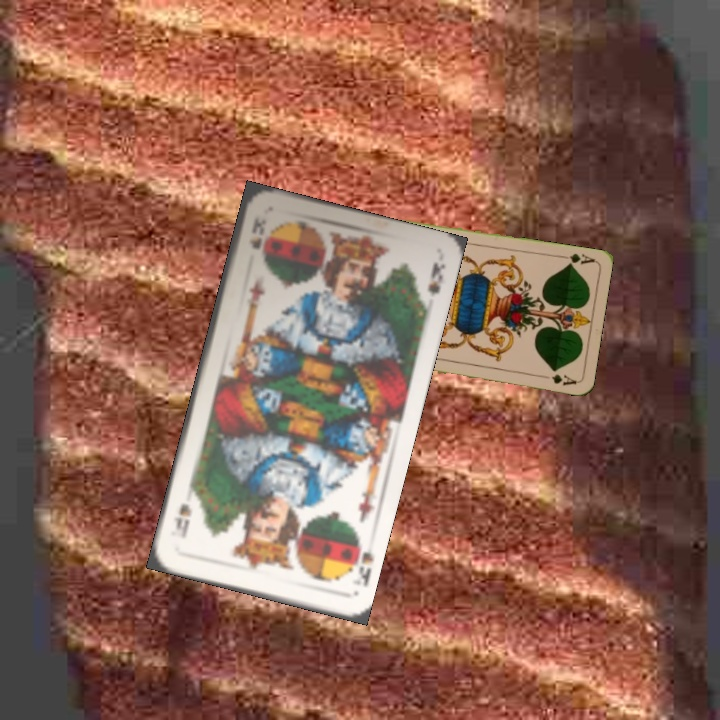GA: (556, 249, 597, 268)
SK: (354, 547, 376, 589), (246, 213, 265, 252)
